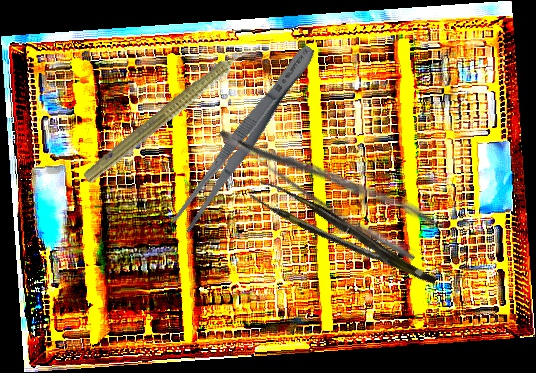Dressing Forceps: (215, 93, 440, 266), (168, 39, 323, 236)
Handpiece: (79, 32, 268, 191)
Tissue Forceps: (247, 167, 438, 307)
